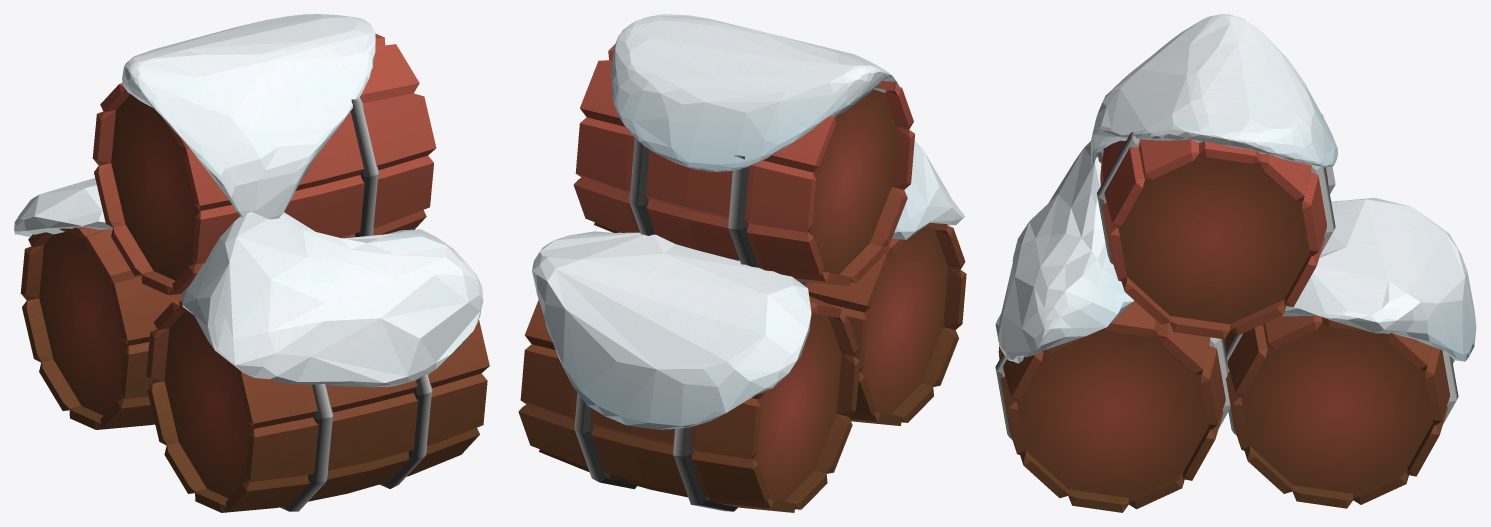
3 renders of one model, left to right at view 1: azimuth 30°, elevation 25°; view 2: azimuth 150°, elevation 25°; view 3: azimuth 270°, elevation 25°, orthographic. The views are drawn at different scales.
Parts seen in each view (by area): view 1: SnowyBarrels3; view 2: SnowyBarrels3; view 3: SnowyBarrels3.
Boxes of the visible parts, box(x1,y1,x2,y2) form: SnowyBarrels3: box(14, 14, 489, 512); SnowyBarrels3: box(518, 14, 966, 512); SnowyBarrels3: box(995, 14, 1476, 512).
Bounding box in the file's own units: 42.27 × 60 × 65.53.
Materials: 1 (1 with a texture image).
